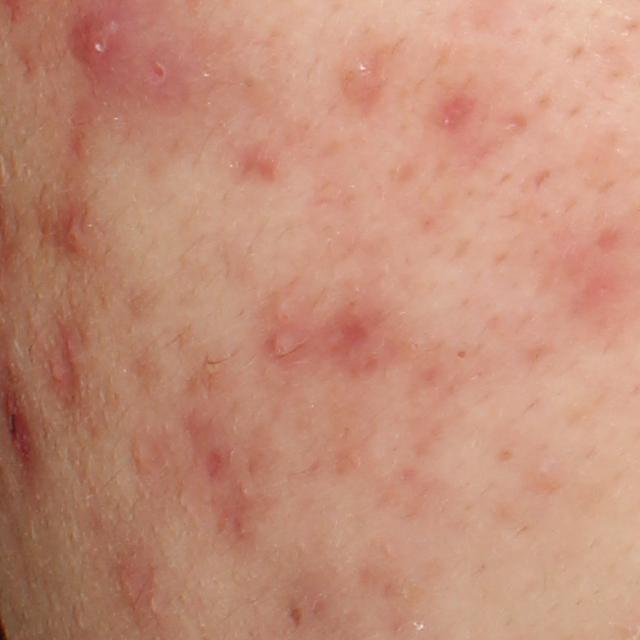papule: (68, 4, 131, 72), (4, 378, 42, 451), (336, 54, 391, 101), (53, 212, 92, 258), (116, 567, 146, 613)
